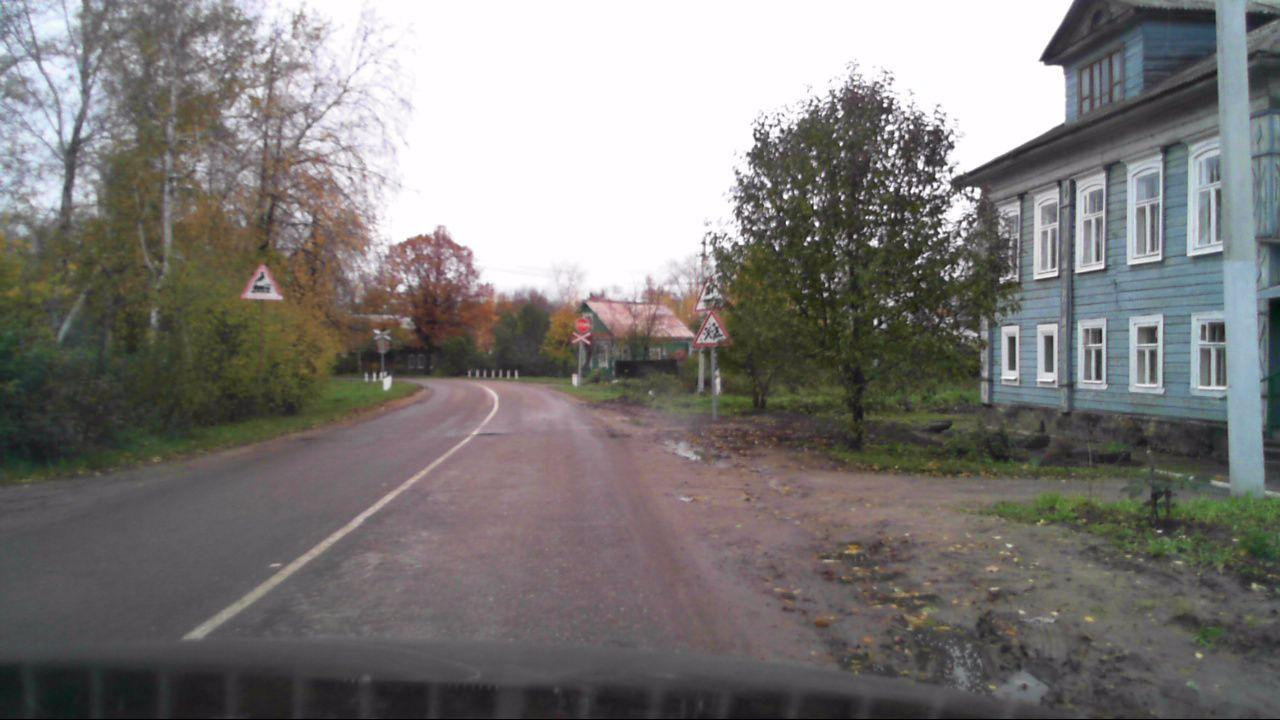1_2: (240, 263, 282, 299), (693, 277, 733, 312)
1_23: (693, 312, 731, 347)
1_3_1: (571, 330, 592, 344)
2_5: (575, 318, 590, 332)
